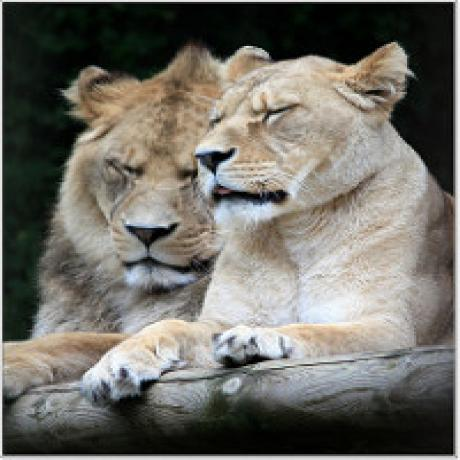Lion: (4, 40, 266, 400), (199, 47, 460, 362)
